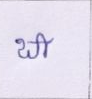i_matra: (37, 33, 49, 57)
